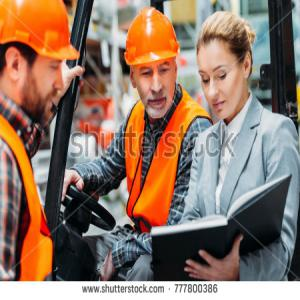none: (194, 9, 255, 121)
yellow: (2, 2, 74, 124), (123, 8, 184, 119)
